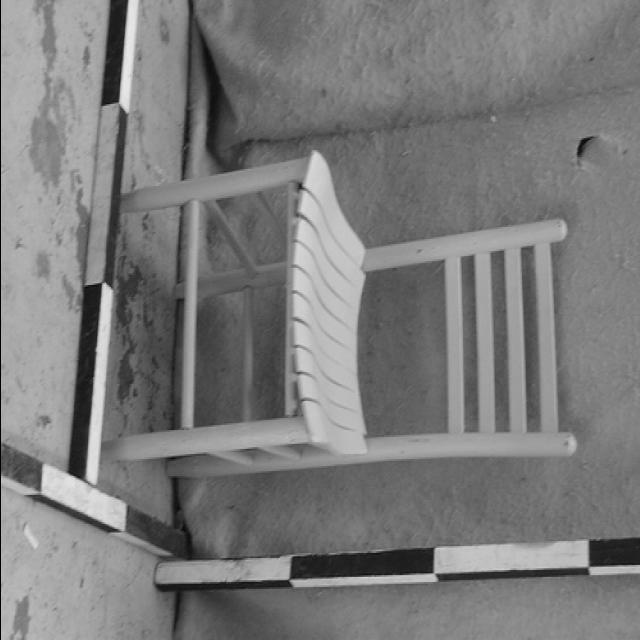chair: (102, 153, 576, 486)
